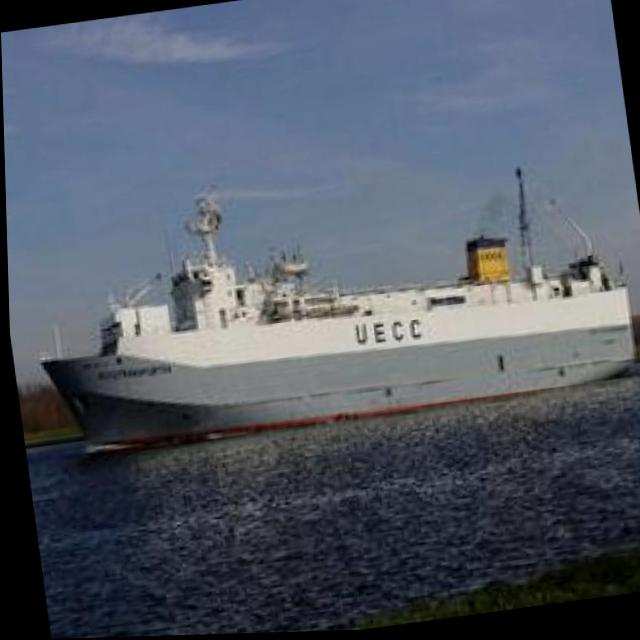ship2: (39, 172, 636, 455)
